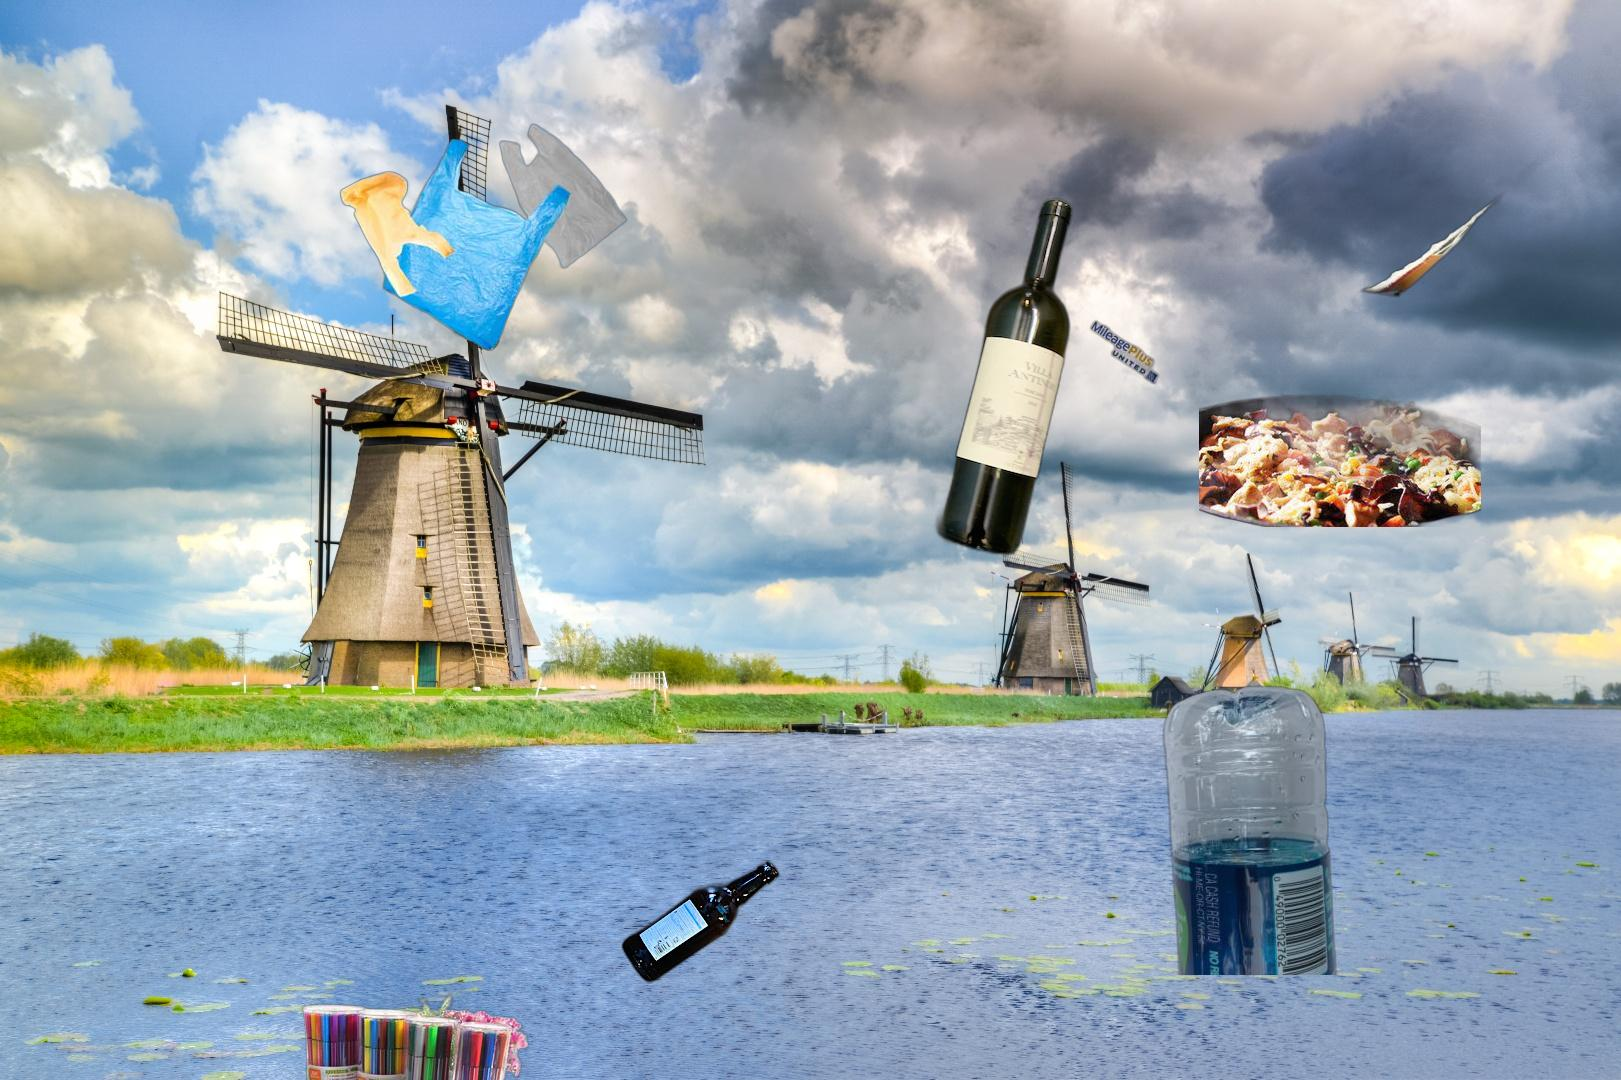biological: (1199, 368, 1481, 527)
glass: (930, 192, 1077, 560), (617, 856, 785, 988)
paper: (1350, 104, 1609, 300), (955, 209, 1163, 387)
penholder: (248, 991, 531, 1080)
plastic-bag: (337, 123, 630, 354)
plastic-bottles: (1159, 683, 1341, 975)
